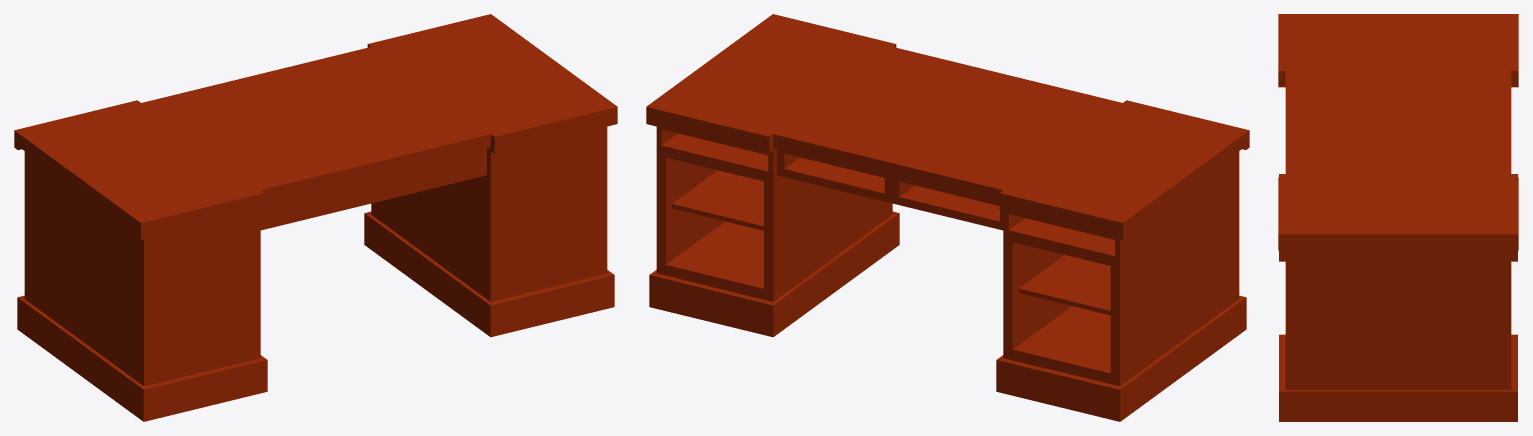
Rendered from Bureau01.fbx.
3 views of the same model, side by side, from view 1: azimuth 30°, elevation 25°; view 2: azimuth 150°, elevation 25°; view 3: azimuth 270°, elevation 25° (orthographic). The views are drawn at different scales.
Visible parts, largest first — view 1: Bureau01; view 2: Bureau01; view 3: Bureau01.
Boxes of the visible parts, x1,y1,x2,y2 form: Bureau01: (14,14,617,421); Bureau01: (646,14,1249,421); Bureau01: (1278,14,1518,421).
Bounding box in the file's own units: 248 × 99.48 × 114.
